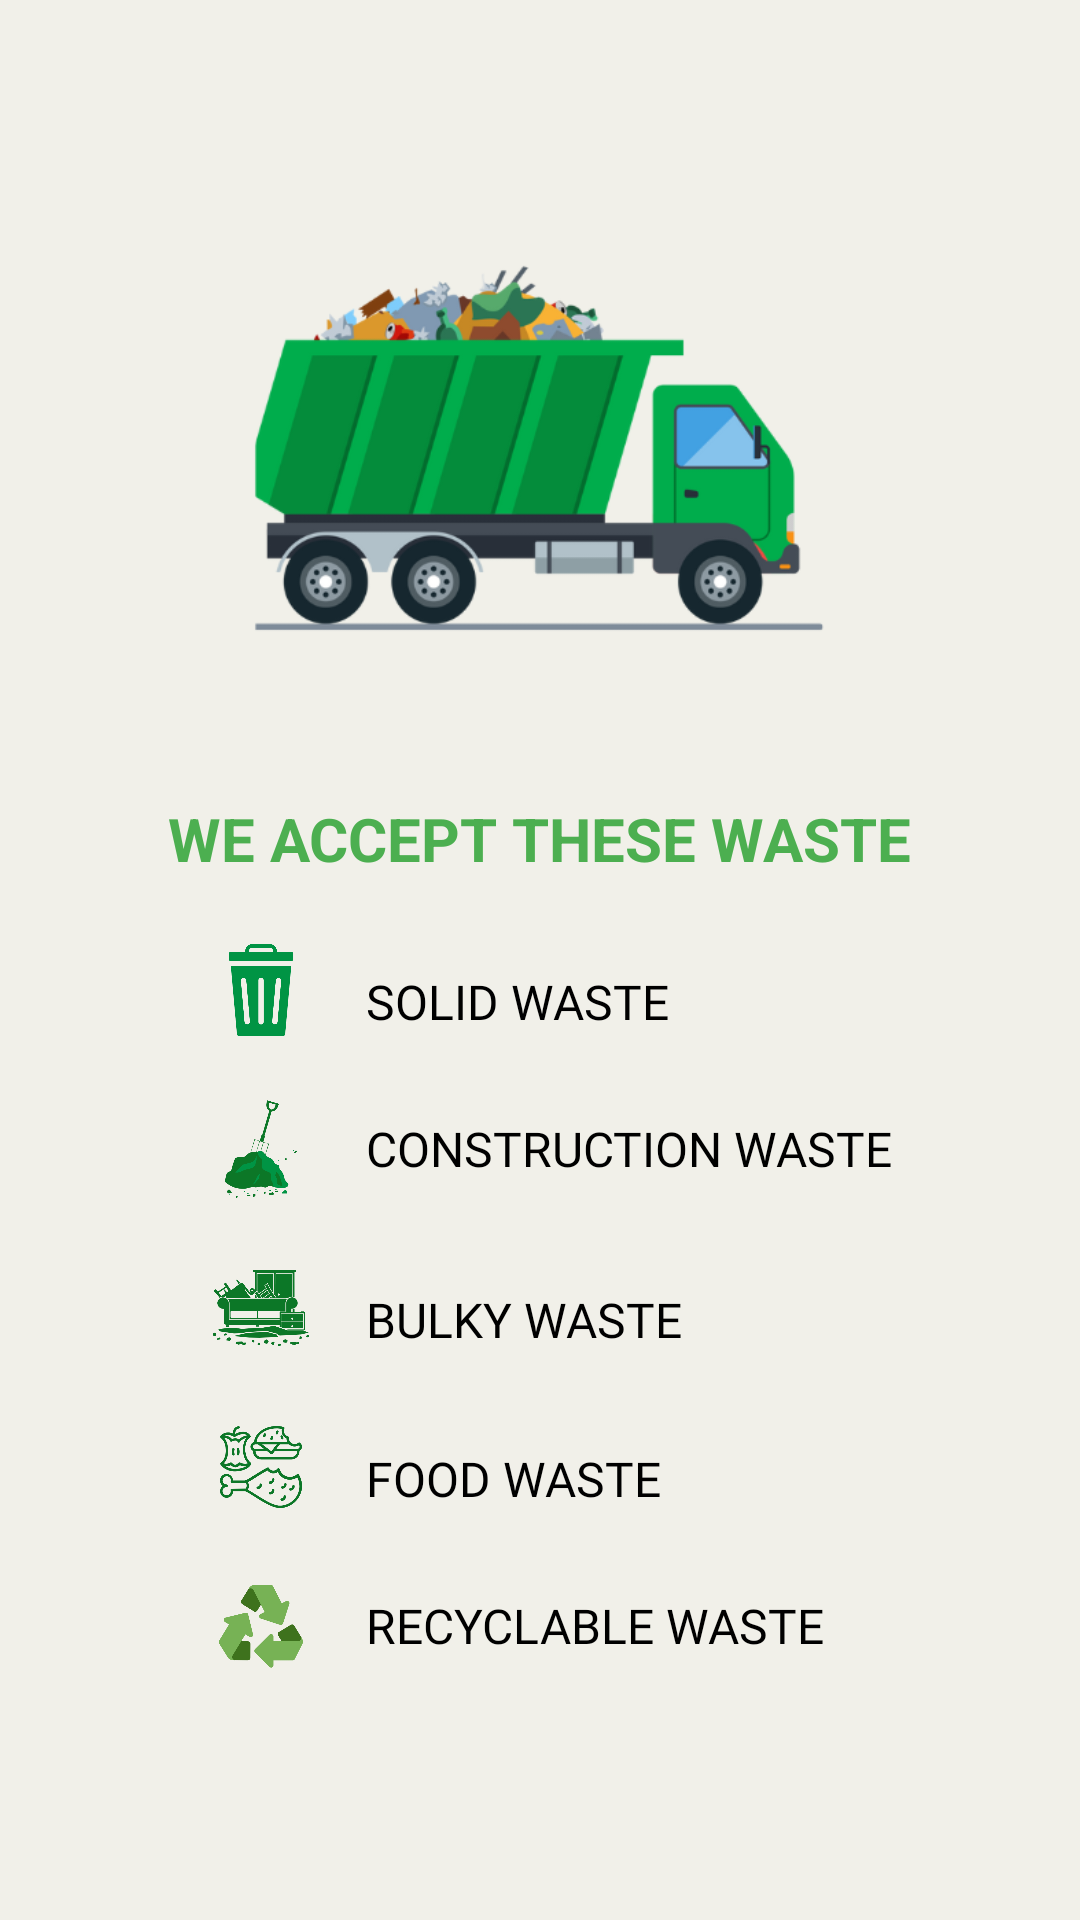

Screen size 1080×1920. Icon name, then its center in pixels as (x=x, y=y):
recycle: (x=261, y=1626)
